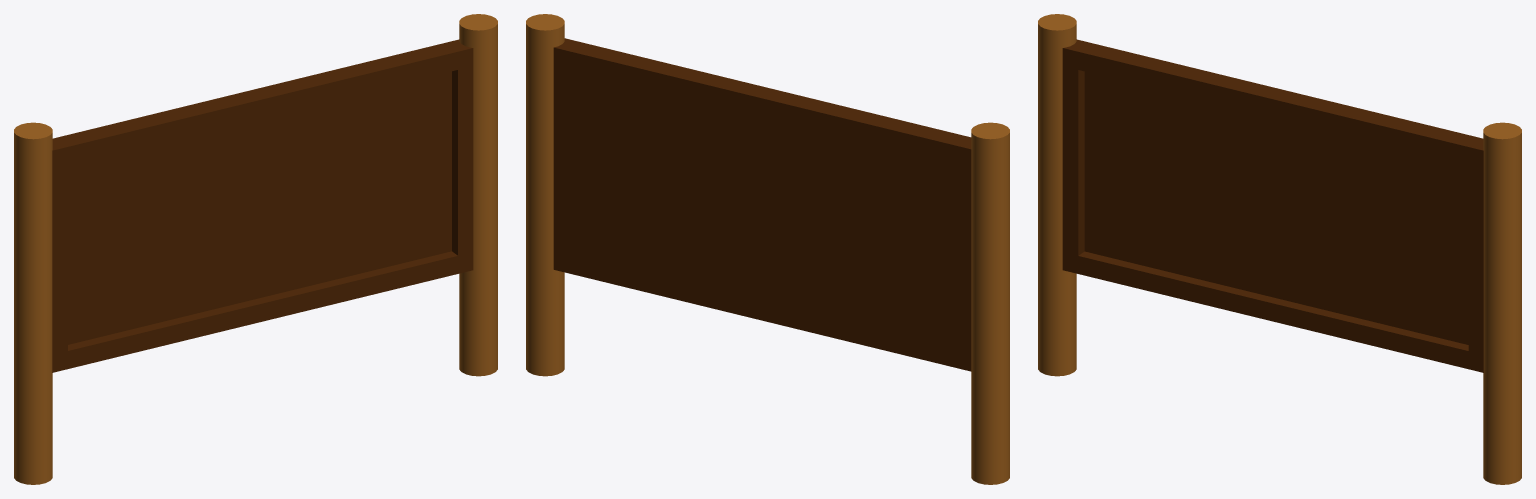
The model's file is Blocking_pancarte.FBX.
The picture shows the model from 3 angles, left to right: view 1: azimuth 30°, elevation 25°; view 2: azimuth 150°, elevation 25°; view 3: azimuth 330°, elevation 25°; orthographic projection.
Visible parts, largest first — view 1: Box001; view 2: Box001; view 3: Box001.
Part boxes in pixels (bbox=[...]): Box001: bbox=[14, 14, 497, 484]; Box001: bbox=[526, 14, 1009, 484]; Box001: bbox=[1038, 14, 1521, 484].
Size of the model in its own units: 88.83 by 61.24 by 6.2.
